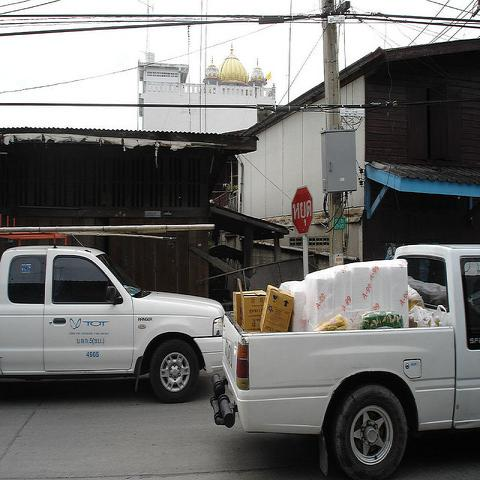car: (0, 242, 227, 404)
truck: (209, 243, 479, 479), (2, 229, 224, 402)
